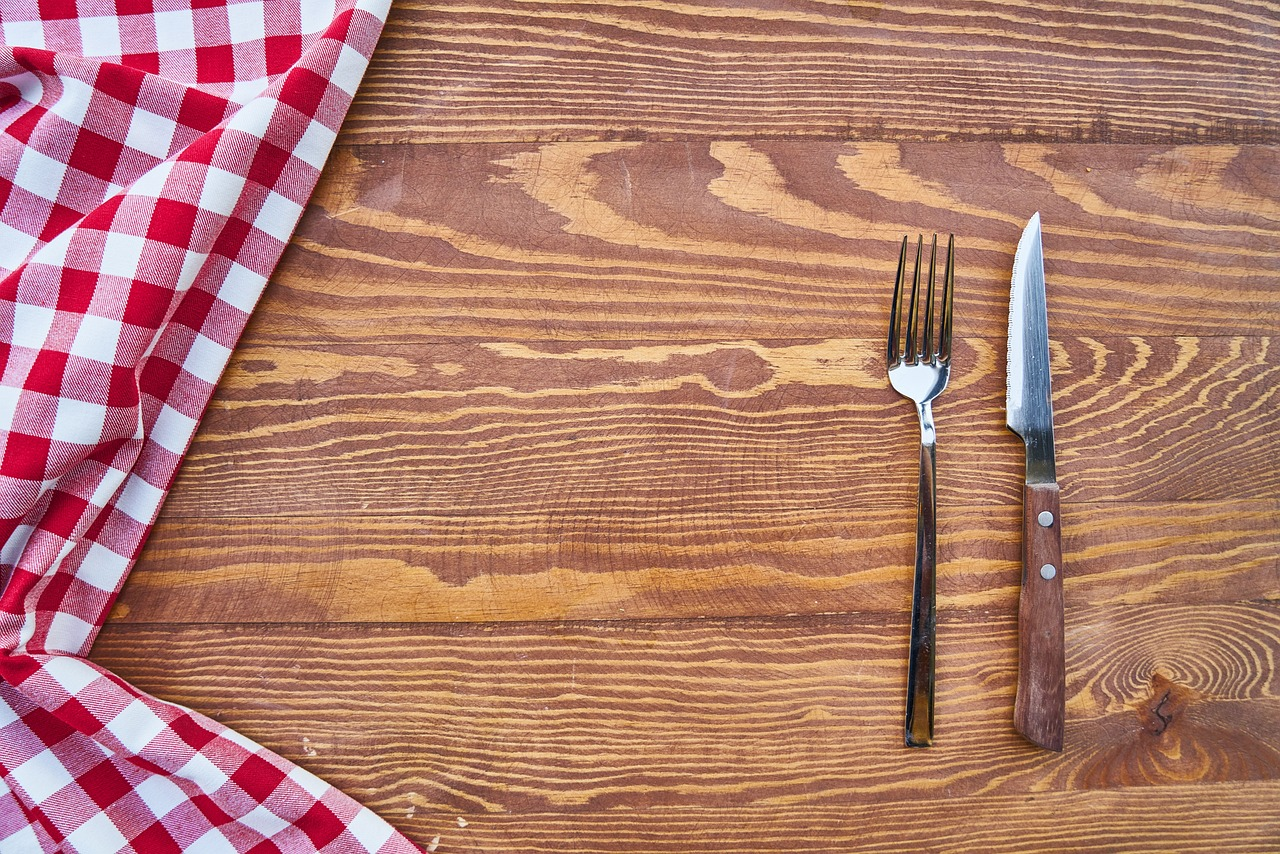knife: (997, 205, 1082, 768)
